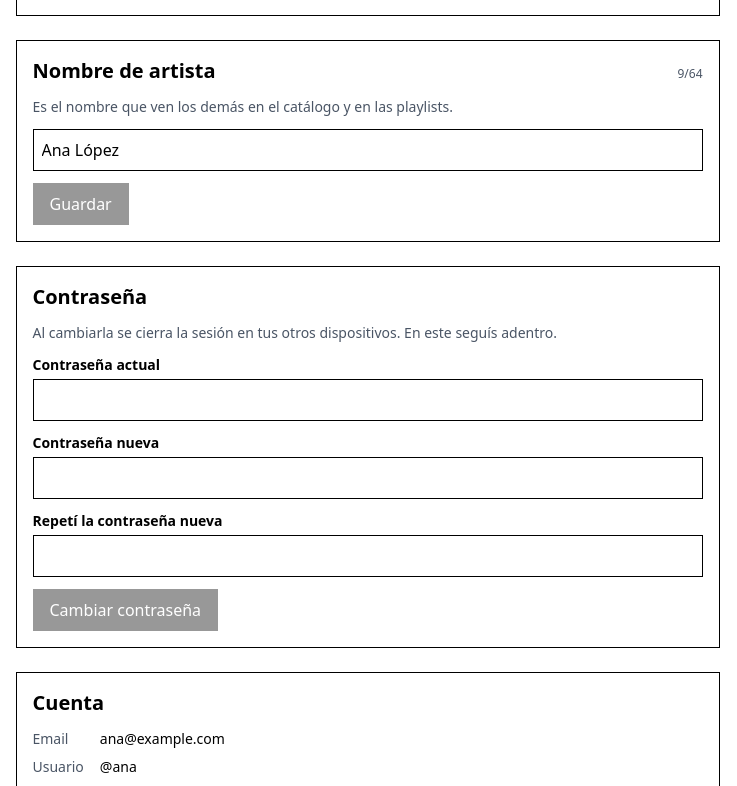
contraseña › la cambia y guarda el token nuevo
(page scrolled)
In the password field labelled "Contraseña actual": (368, 400) [32,379,702,421], type "vieja-clave"
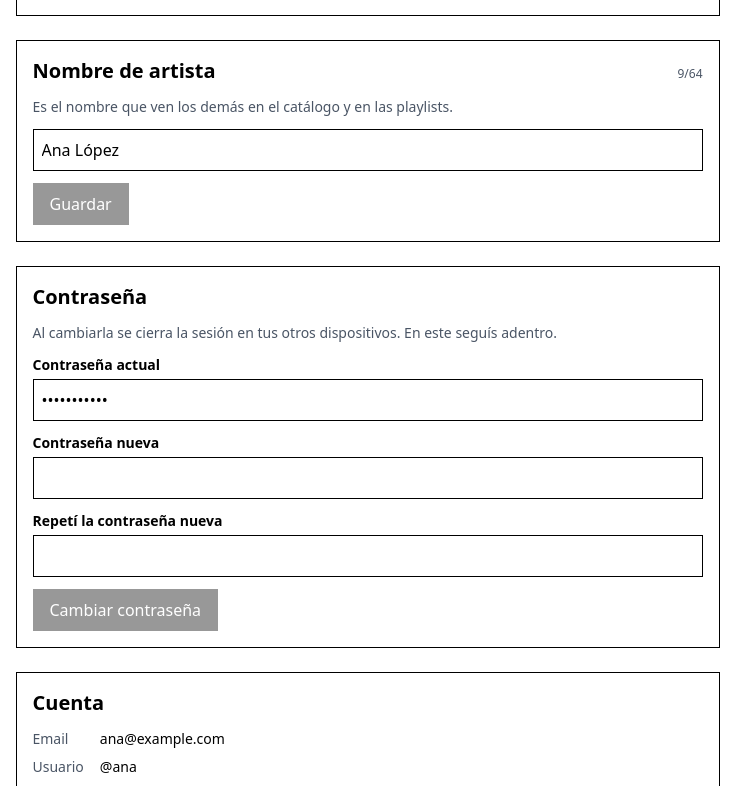
In the password field labelled "Contraseña nueva": (368, 478) [32,457,702,499], type "nueva-clave-1"
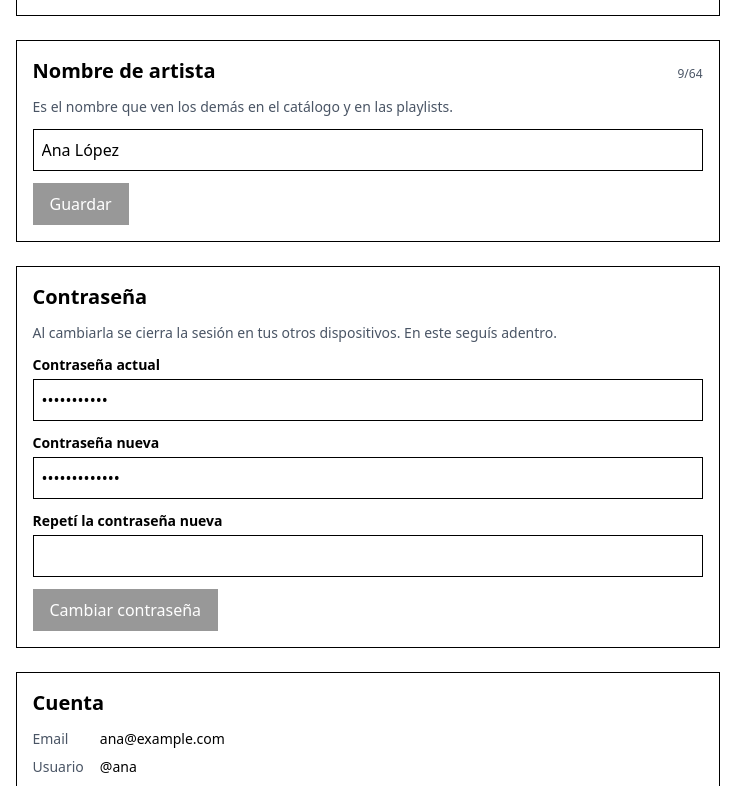
In the password field labelled "Repetí la contraseña nueva": (368, 556) [32,535,702,577], type "nueva-clave-1"
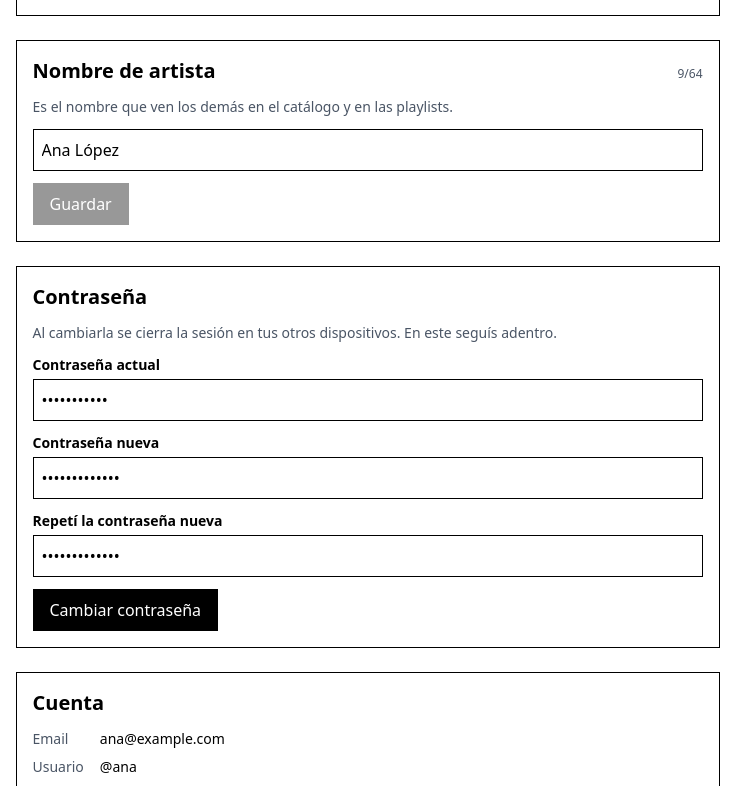
Click the button "Cambiar contraseña": click(125, 610) [32,589,218,631]
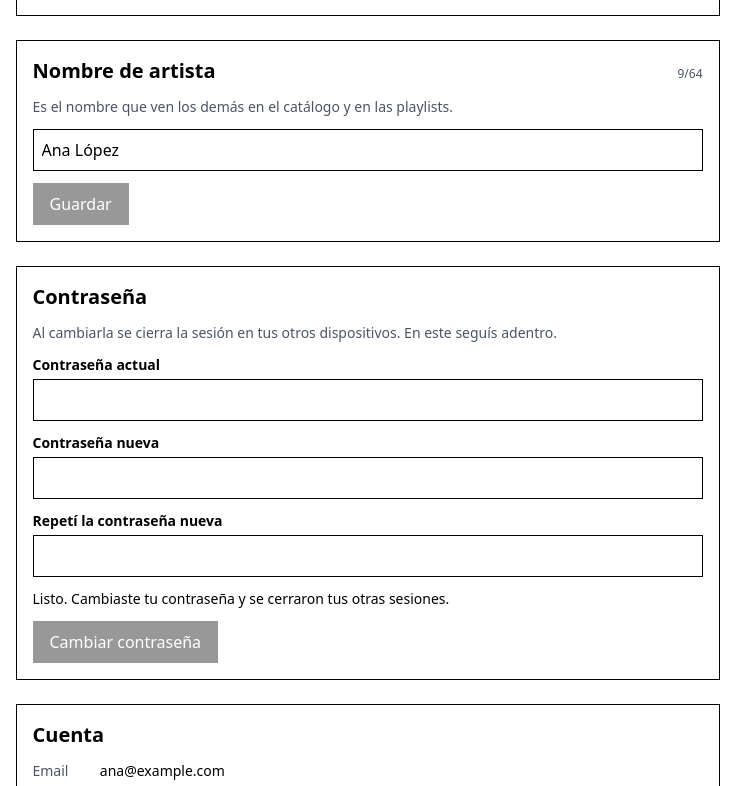
Expected: the text "Listo. Cambiaste tu contraseña y se cerraron tus otras sesiones." is shown, [32,589,449,608]
Expected: the password field labelled "Contraseña actual" is empty, [32,379,702,421]
